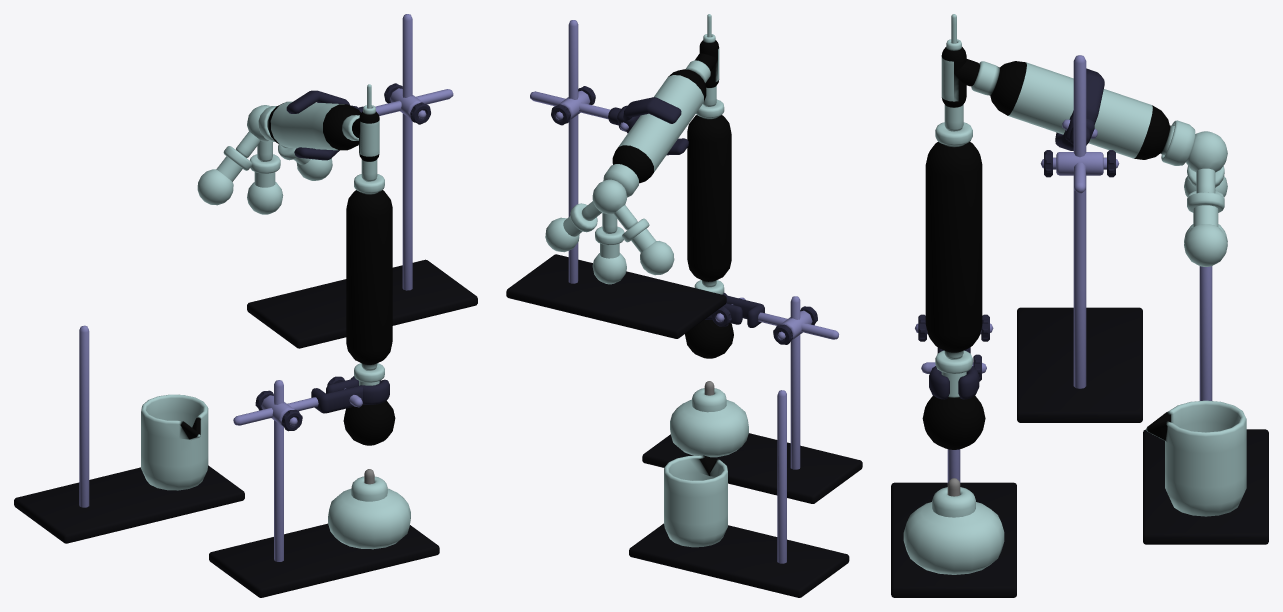
The model's file is LastLuna_Model_Station_Fractional_Distiller.fbx.
3 views of the same model, side by side, from view 1: azimuth 30°, elevation 25°; view 2: azimuth 150°, elevation 25°; view 3: azimuth 270°, elevation 25° (orthographic). The views are drawn at different scales.
Visible parts, largest first — view 1: Stand_Base001 (×2), Stand_Base002, Fractional_Column001, Beaker001, Alcohol_Lamp001, Condenser001, Stand_Pole_Tall001, Flask_Round001, Stand_Pole002, Flask_Round_Small002, Distill_Collector001, Stand_Pole001 (+7 smaller); view 2: Stand_Base001 (×2), Stand_Base002, Fractional_Column001, Beaker001, Condenser001, Alcohol_Lamp001, Multi_Flask_Adapter001, Stand_Pole_Tall001, Stand_Pole002, Stand_Pole001, Flask_Round001, Flask_Round_Small002 (+7 smaller); view 3: Stand_Base001 (×2), Fractional_Column001, Condenser001, Beaker001, Stand_Base002, Alcohol_Lamp001, Stand_Pole_Tall001, Flask_Round001, Multi_Flask_Adapter001, Flask_Round_Small003, Distill_Collector001, Stand_Pole002 (+5 smaller).
Boxes of the visible parts, box(x1,y1,x2,y2) form: Stand_Base001 (×2): box(209, 259, 477, 597); Stand_Base002: box(14, 465, 244, 543); Fractional_Column001: box(346, 174, 392, 370); Beaker001: box(141, 394, 208, 490); Alcohol_Lamp001: box(328, 476, 410, 549); Condenser001: box(267, 101, 360, 150); Stand_Pole_Tall001: box(402, 14, 412, 290); Flask_Round001: box(343, 363, 395, 445); Stand_Pole002: box(79, 325, 89, 507); Flask_Round_Small002: box(197, 146, 252, 205); Distill_Collector001: box(352, 84, 379, 181); Stand_Pole001: box(274, 380, 283, 561); Stand_Base001 (×2): box(506, 254, 862, 503); Stand_Base002: box(629, 523, 849, 597); Fractional_Column001: box(687, 99, 731, 287); Beaker001: box(664, 455, 727, 547); Condenser001: box(612, 60, 710, 183); Alcohol_Lamp001: box(670, 388, 748, 457); Multi_Flask_Adapter001: box(582, 164, 638, 233); Stand_Pole_Tall001: box(568, 20, 578, 283); Stand_Pole002: box(777, 390, 786, 563); Stand_Pole001: box(790, 296, 800, 469); Flask_Round001: box(685, 280, 733, 358); Flask_Round_Small002: box(622, 218, 674, 275); Stand_Base001 (×2): box(891, 307, 1142, 597); Fractional_Column001: box(925, 122, 982, 359); Condenser001: box(971, 61, 1174, 159); Beaker001: box(1146, 400, 1246, 516); Stand_Base002: box(1143, 429, 1268, 544); Alcohol_Lamp001: box(903, 487, 1004, 574); Stand_Pole_Tall001: box(1073, 55, 1086, 388); Flask_Round001: box(922, 350, 985, 449); Multi_Flask_Adapter001: box(1161, 120, 1227, 193); Flask_Round_Small003: box(1184, 192, 1227, 266); Distill_Collector001: box(941, 14, 979, 131); Stand_Pole002: box(1199, 266, 1212, 400).
Bounding box in the file's own units: 157 × 197 × 118.
